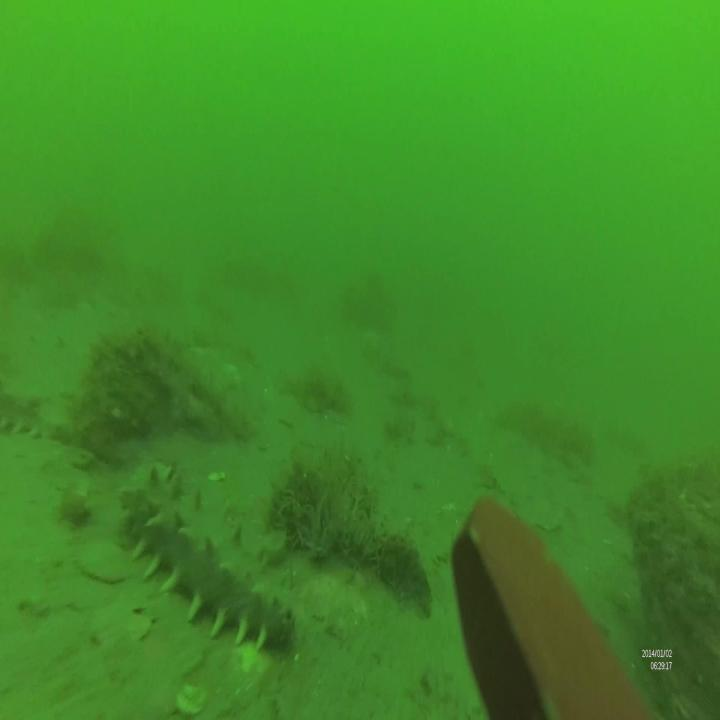holothurian: (122, 480, 300, 651), (2, 383, 119, 450)
scallop: (76, 536, 132, 587)
